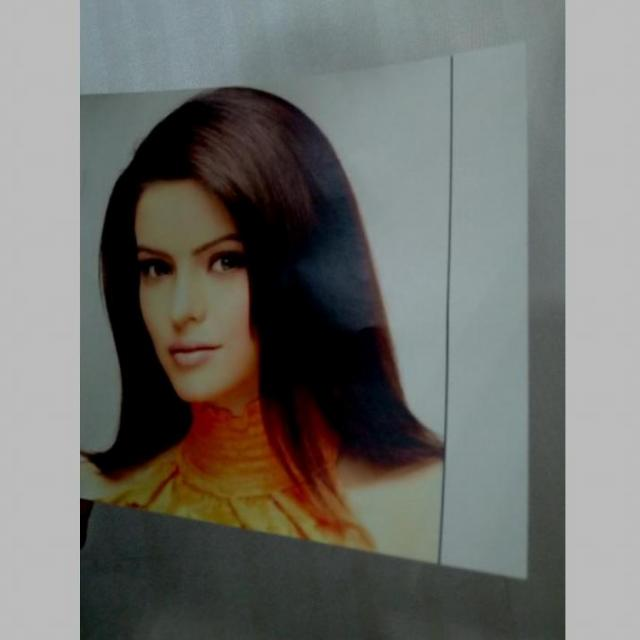photo: (80, 37, 550, 590)
